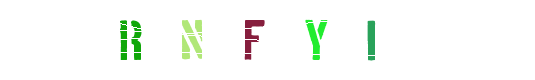F: (211, 0, 291, 80)
I: (271, 0, 351, 80)
N: (179, 0, 259, 80)
R: (165, 0, 245, 80)
Y: (228, 0, 308, 80)
